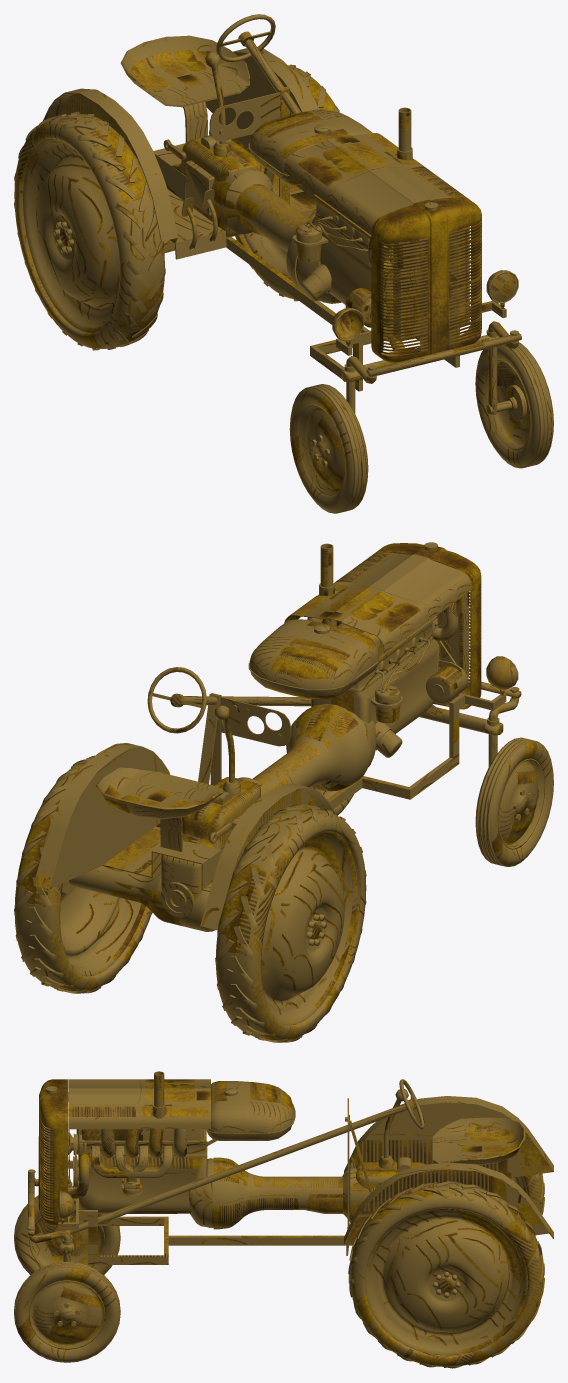
The model's file is OldTractorFBX.fbx.
3 views of the same model, one above another, from view 1: azimuth 30°, elevation 25°; view 2: azimuth 150°, elevation 25°; view 3: azimuth 270°, elevation 25° (orthographic). The views are drawn at different scales.
Parts seen in each view (by area): view 1: Cube, Cylinder.003, Cylinder.002, Plane.003, Plane, Plane.004, Cylinder.008, Cube.005_Cube.006, Cylinder.007, Cylinder.001, Cube.010, Cylinder.005 (+16 smaller); view 2: Plane.003, Cylinder.003, Cylinder.002, Plane, Cylinder.011, Cylinder.009, Cube.010, Cylinder.008, Cube.005_Cube.006, Cylinder.000, Plane.004, Cylinder.007 (+11 smaller); view 3: Cylinder.000, Plane.003, Cylinder.011, Cube.005_Cube.006, Plane, Cylinder.008, Cube.010, Cylinder.001, Cylinder.010, Cube.009, Cube, Plane.004 (+13 smaller).
Part boxes in pixels (x1,y1,x2,y2): Cube: (371, 196, 481, 362); Cylinder.003: (14, 111, 165, 350); Cylinder.002: (23, 138, 119, 332); Plane.003: (43, 48, 319, 259); Plane: (284, 133, 466, 234); Plane.004: (120, 35, 249, 142); Cylinder.008: (185, 160, 319, 300); Cube.005_Cube.006: (292, 194, 393, 335); Cylinder.007: (289, 384, 368, 513); Cylinder.001: (475, 342, 553, 468); Cube.010: (248, 109, 372, 185); Cylinder.005: (298, 405, 345, 495); Plane.003: (33, 693, 336, 930); Cylinder.003: (215, 804, 366, 1042); Cylinder.002: (261, 831, 357, 1025); Plane: (284, 551, 471, 653); Cylinder.011: (14, 755, 152, 993); Cylinder.009: (61, 777, 260, 931); Cube.010: (248, 619, 379, 699); Cylinder.008: (232, 704, 370, 830); Cube.005_Cube.006: (306, 616, 461, 767); Cylinder.000: (60, 887, 145, 976); Plane.004: (95, 767, 224, 851); Cylinder.007: (475, 737, 553, 866); Cylinder.000: (365, 1208, 528, 1355); Plane.003: (344, 1096, 553, 1255); Cylinder.011: (348, 1181, 544, 1368); Cube.005_Cube.006: (78, 1109, 213, 1227); Plane: (68, 1079, 210, 1129); Cylinder.008: (213, 1157, 376, 1229); Cube.010: (206, 1081, 295, 1146); Cylinder.001: (14, 1261, 120, 1362); Cylinder.010: (29, 1280, 105, 1349); Cube.009: (78, 1210, 352, 1264); Cube: (38, 1079, 67, 1225); Plane.004: (432, 1117, 525, 1164).
Size of the model in its own units: 259 by 308 by 567.
Materials: 38 (38 with a texture image).
